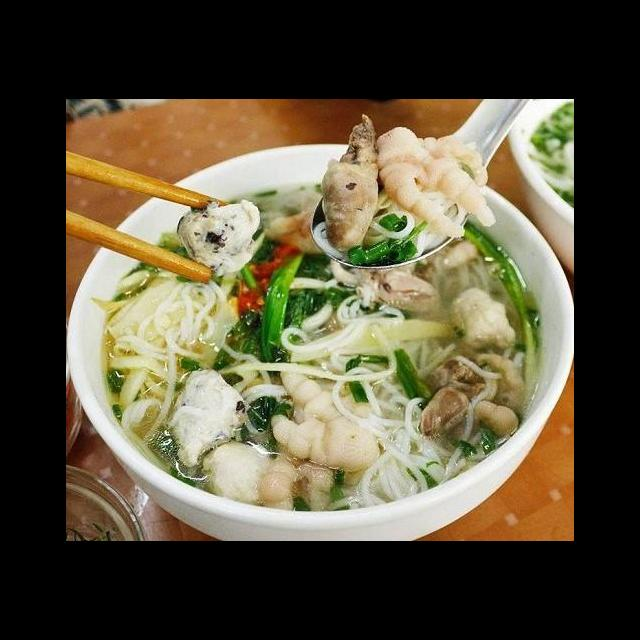bun: (103, 260, 240, 430), (332, 369, 468, 511), (310, 182, 472, 270), (278, 286, 410, 362)
vien moc: (167, 365, 251, 475), (169, 195, 269, 280)
